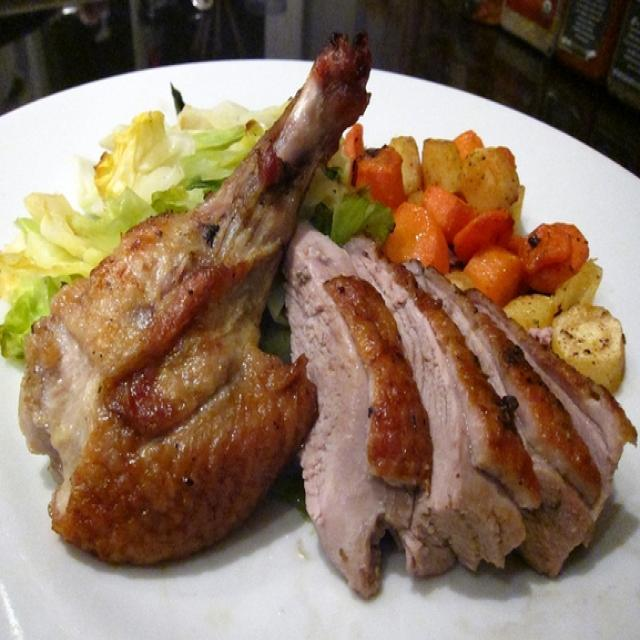烧串烤肉: (16, 44, 624, 618)
